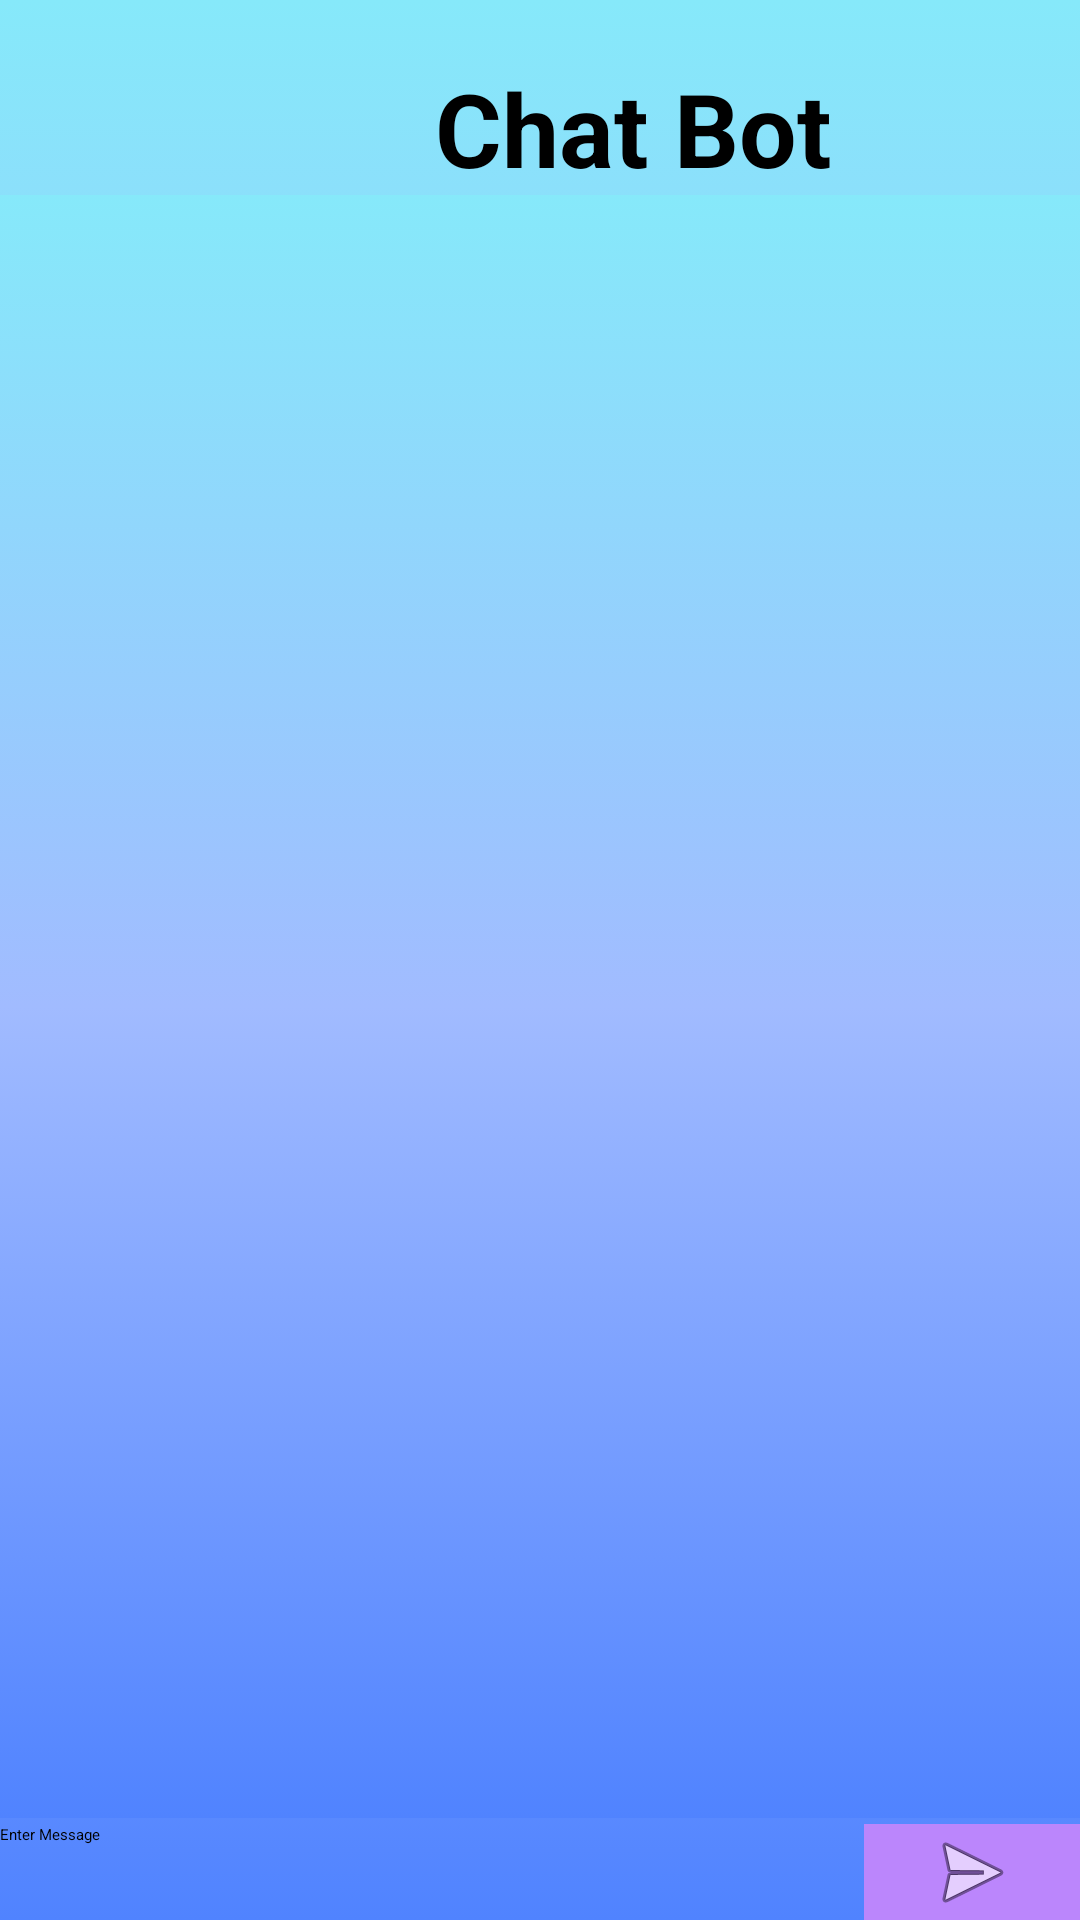

Screen size 1080 x 1920. Icon name, then its box in pixels as (x1, y1, x2, y2):
send: (864, 1824, 1080, 1920)
